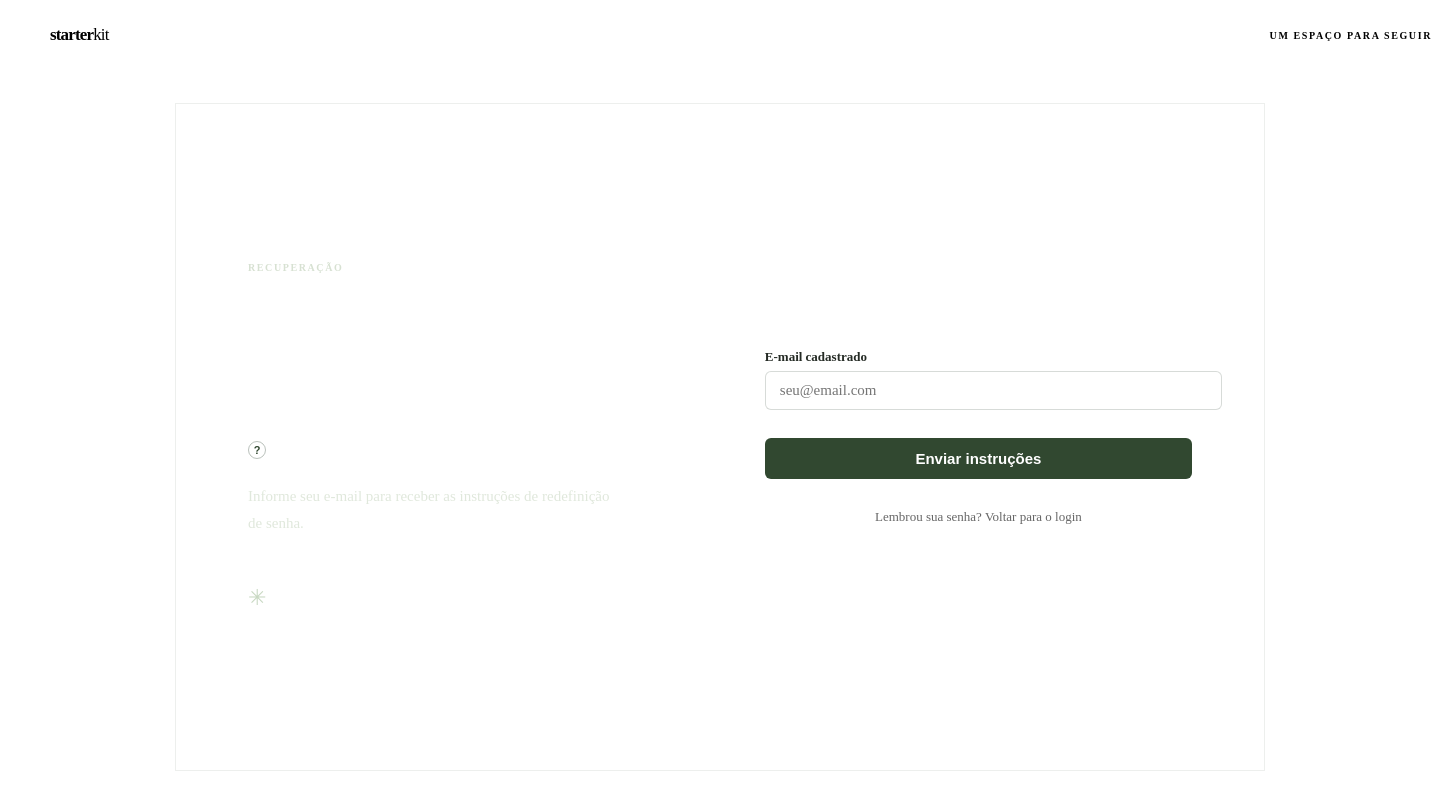
Test: ForgotPasswordPage.vue › submits email and displays neutral message anti-enumeration
Type "unknown@example.com" into the field labelled "E-mail cadastrado" at (993, 390), box [765,370,1222,410]
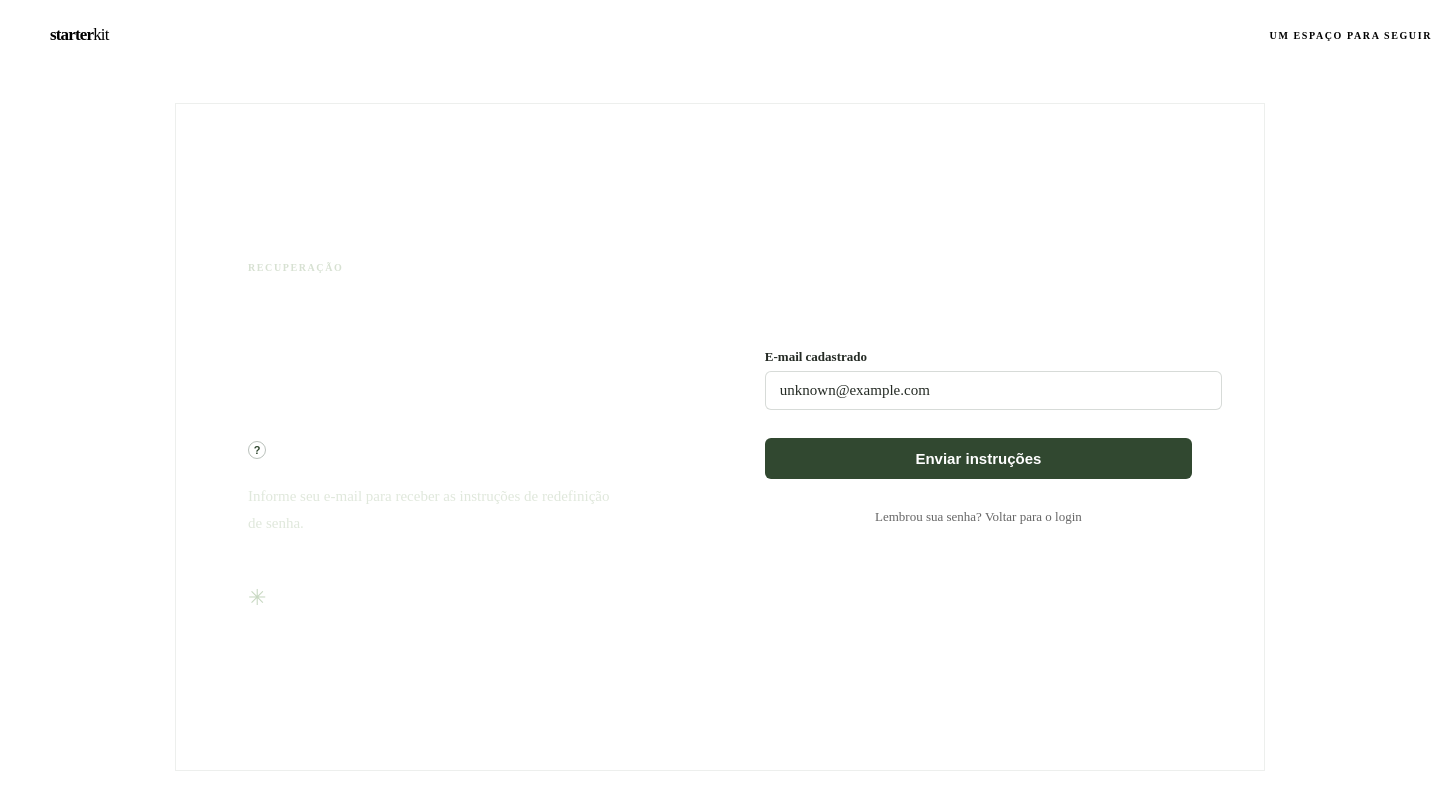
Submit the form, box [765,348,1192,524]
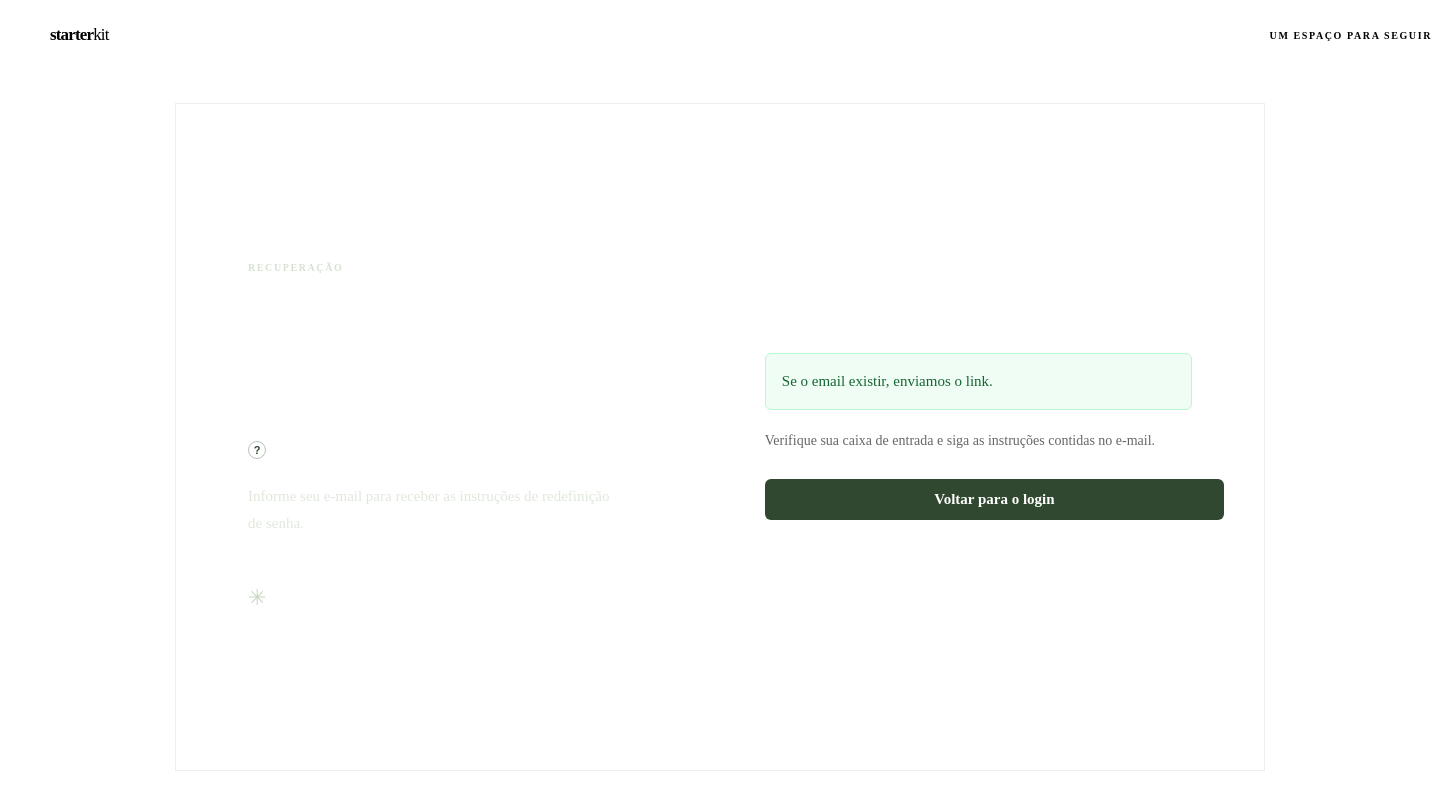
expect the message "Se o email existir, enviamos o link." is shown: met, box [765,353,1192,410]
